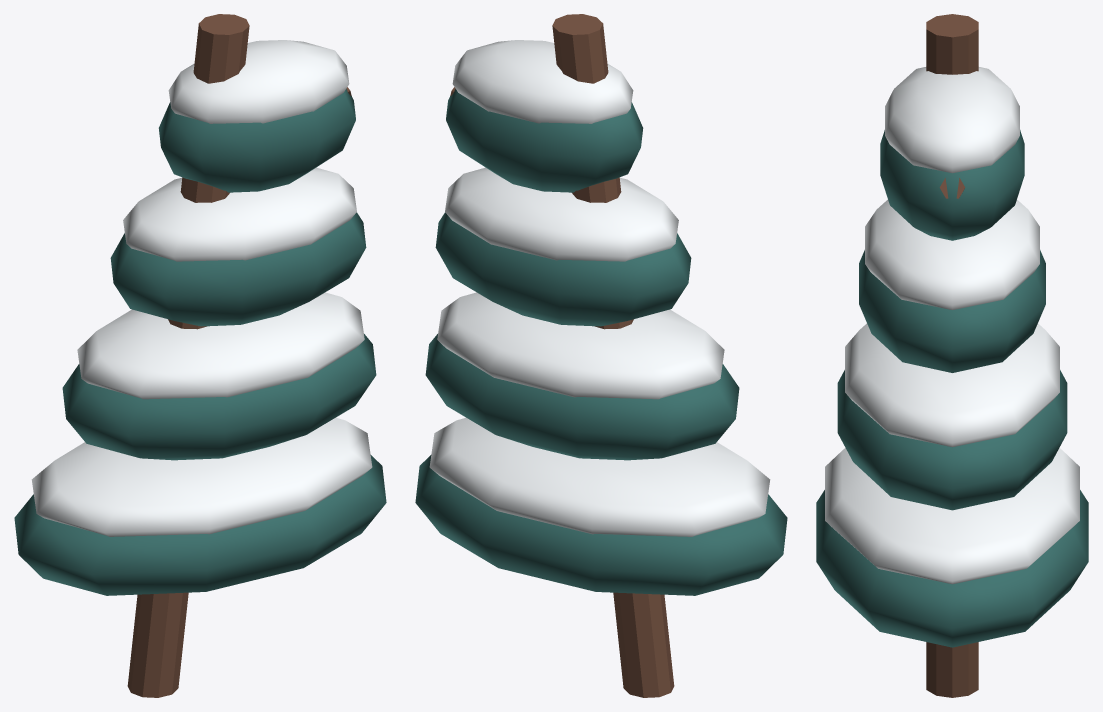
The model's file is 3dassets-alpine-snow-village-windswept-mountain-pine-e7302601.glb.
The picture shows the model from 3 angles, left to right: view 1: azimuth 30°, elevation 25°; view 2: azimuth 150°, elevation 25°; view 3: azimuth 270°, elevation 25°; orthographic projection. The views are drawn at different scales.
Visible parts, largest first — view 1: windswept-mountain-pine-snow, windswept-mountain-pine-pine, windswept-mountain-pine-wood; view 2: windswept-mountain-pine-snow, windswept-mountain-pine-pine, windswept-mountain-pine-wood; view 3: windswept-mountain-pine-snow, windswept-mountain-pine-pine, windswept-mountain-pine-wood.
Part boxes in pixels (box(x1,y1,x2,y2)): windswept-mountain-pine-snow: box(31, 40, 372, 536); windswept-mountain-pine-pine: box(14, 89, 386, 595); windswept-mountain-pine-wood: box(127, 14, 351, 697); windswept-mountain-pine-snow: box(429, 40, 770, 536); windswept-mountain-pine-pine: box(415, 89, 787, 595); windswept-mountain-pine-wood: box(450, 14, 674, 697); windswept-mountain-pine-snow: box(825, 67, 1079, 584); windswept-mountain-pine-pine: box(816, 130, 1088, 647); windswept-mountain-pine-wood: box(926, 14, 978, 697).
Bounding box in the file's own units: 2.3 × 3.9 × 1.38.
